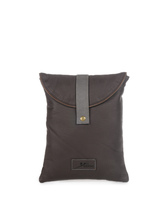bag: (30, 59, 138, 189)
